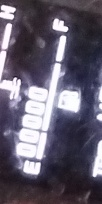grid_pose: (42, 41, 93, 185)
